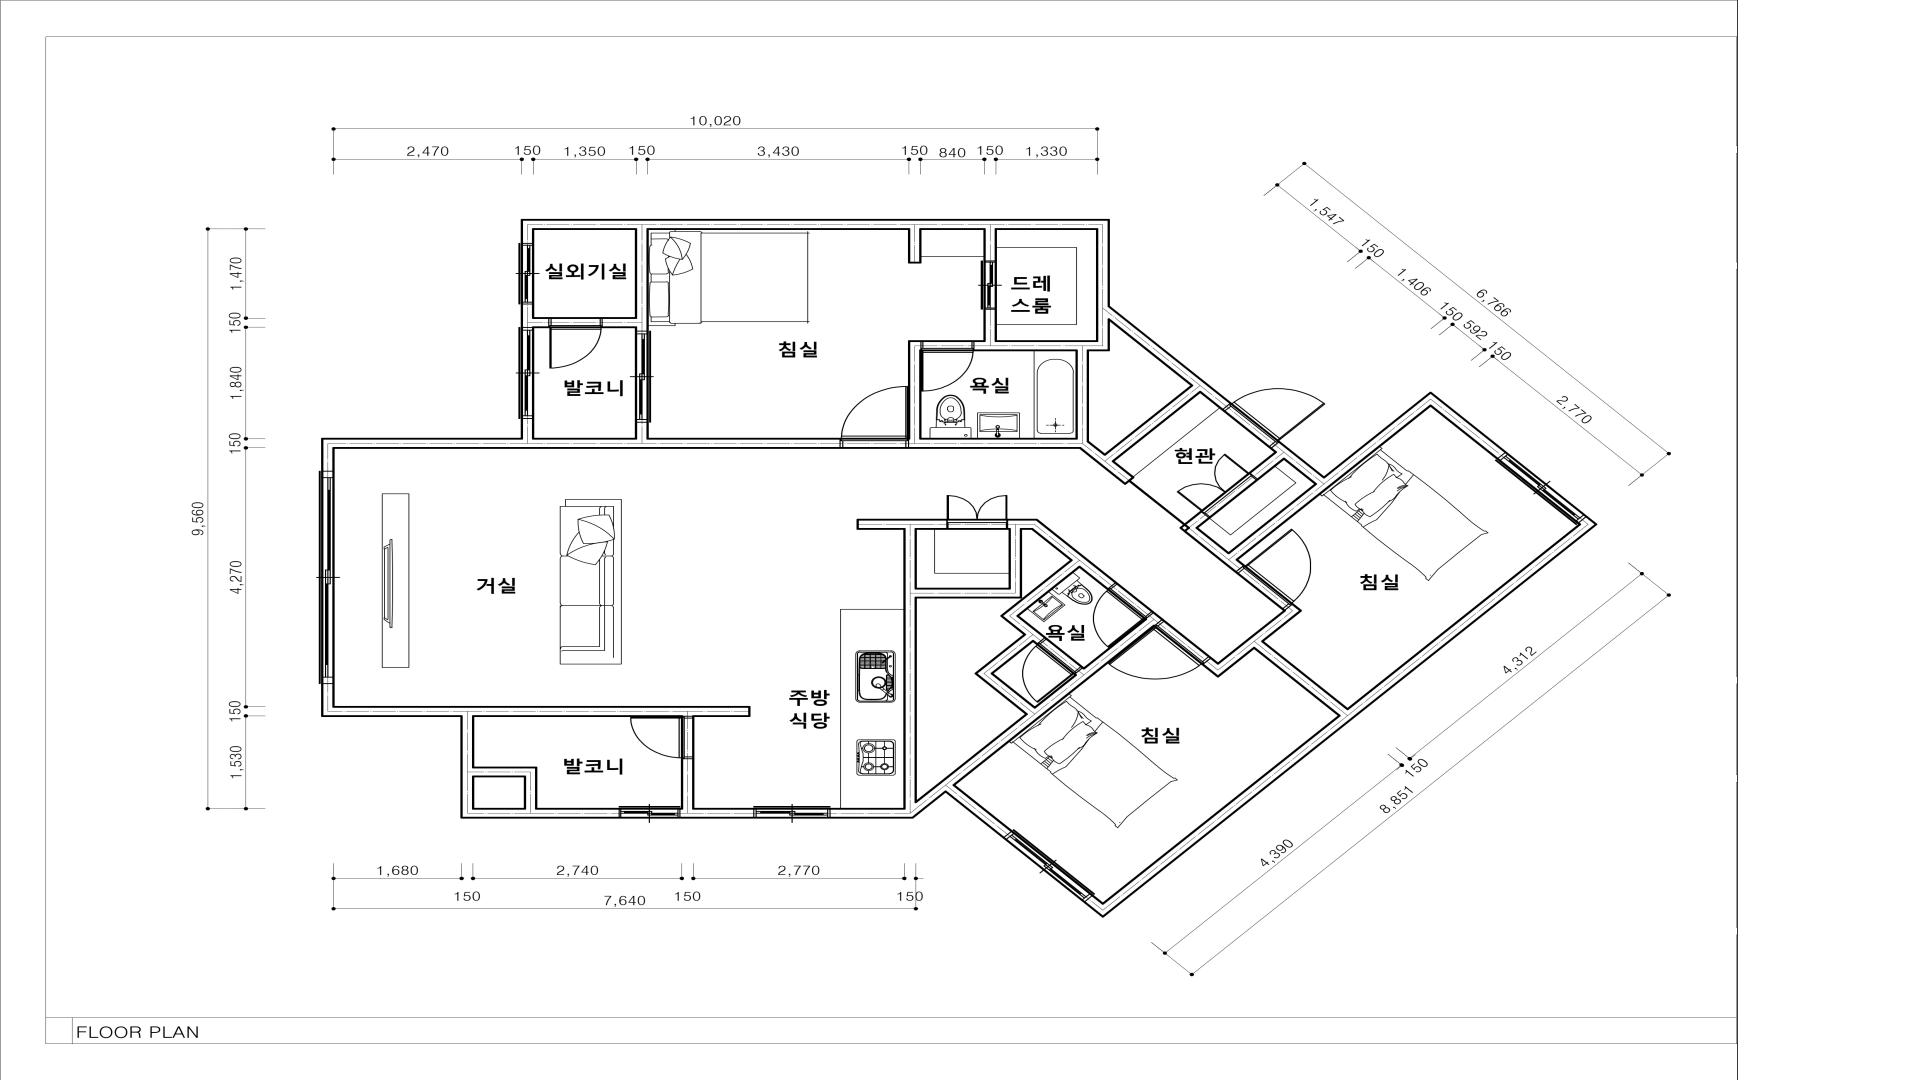door: (1222, 368, 1325, 450), (1108, 620, 1211, 700), (1237, 530, 1340, 611), (1000, 638, 1083, 704), (1072, 583, 1154, 647), (840, 386, 909, 450), (630, 717, 695, 760), (922, 340, 975, 392), (984, 261, 997, 309)
wall: (1084, 516, 1597, 918), (521, 219, 1232, 411), (857, 518, 1163, 808), (907, 309, 1200, 485), (320, 684, 620, 819), (1270, 392, 1507, 492), (1201, 603, 1348, 715), (1179, 484, 1324, 572), (320, 418, 534, 471), (831, 778, 1013, 839), (534, 422, 840, 448), (603, 229, 650, 331), (473, 705, 750, 717), (473, 766, 538, 808), (1249, 452, 1283, 480), (680, 808, 754, 819), (680, 760, 695, 808), (907, 229, 922, 264), (982, 229, 997, 261), (521, 303, 534, 328), (534, 316, 549, 328)
window: (1004, 831, 1093, 903), (1497, 452, 1588, 524), (320, 471, 335, 684), (634, 331, 649, 422), (521, 328, 534, 418), (753, 807, 831, 819), (521, 243, 534, 305), (618, 808, 680, 819)
